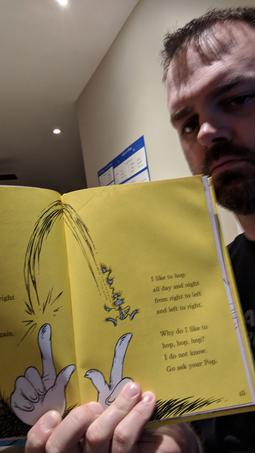text block: (151, 320, 227, 376), (139, 266, 212, 319)
